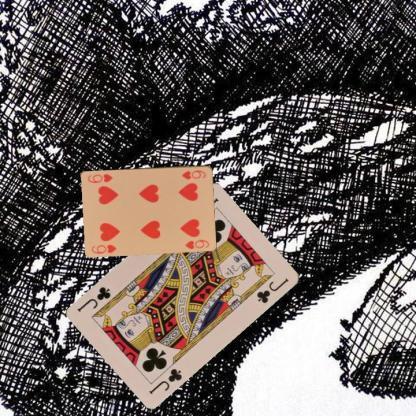6h: (89, 241, 118, 255), (179, 168, 207, 180)
Jc: (146, 365, 183, 395)
